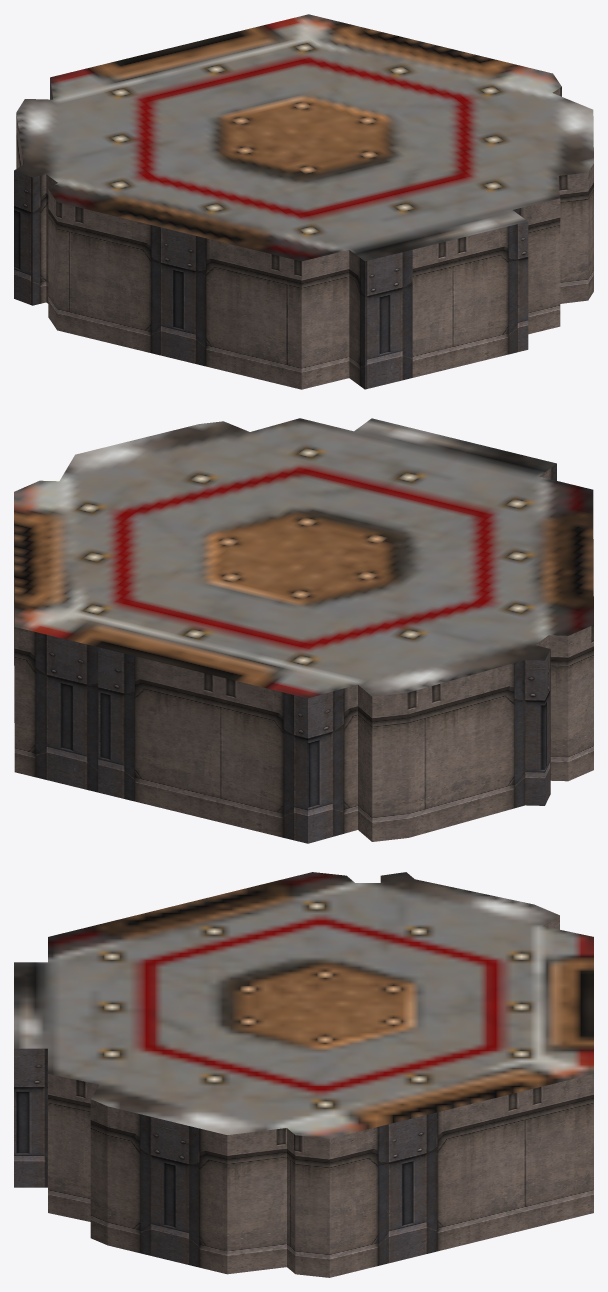
The model's file is bsealed_medium_a_44.glb.
The picture shows the model from 3 angles, top to bottom: view 1: azimuth 30°, elevation 25°; view 2: azimuth 150°, elevation 25°; view 3: azimuth 270°, elevation 25°; orthographic projection. The views are drawn at different scales.
Parts seen in each view (by area): view 1: buildings/saxarba/bsealed_medium/bsealed_medium_a_44; view 2: buildings/saxarba/bsealed_medium/bsealed_medium_a_44; view 3: buildings/saxarba/bsealed_medium/bsealed_medium_a_44.
Boxes of the visible parts, <box> form: buildings/saxarba/bsealed_medium/bsealed_medium_a_44: <box>14,14,593,389</box>; buildings/saxarba/bsealed_medium/bsealed_medium_a_44: <box>14,418,593,843</box>; buildings/saxarba/bsealed_medium/bsealed_medium_a_44: <box>14,872,593,1277</box>.
Bounding box in the file's own units: 74 × 18 × 68.
